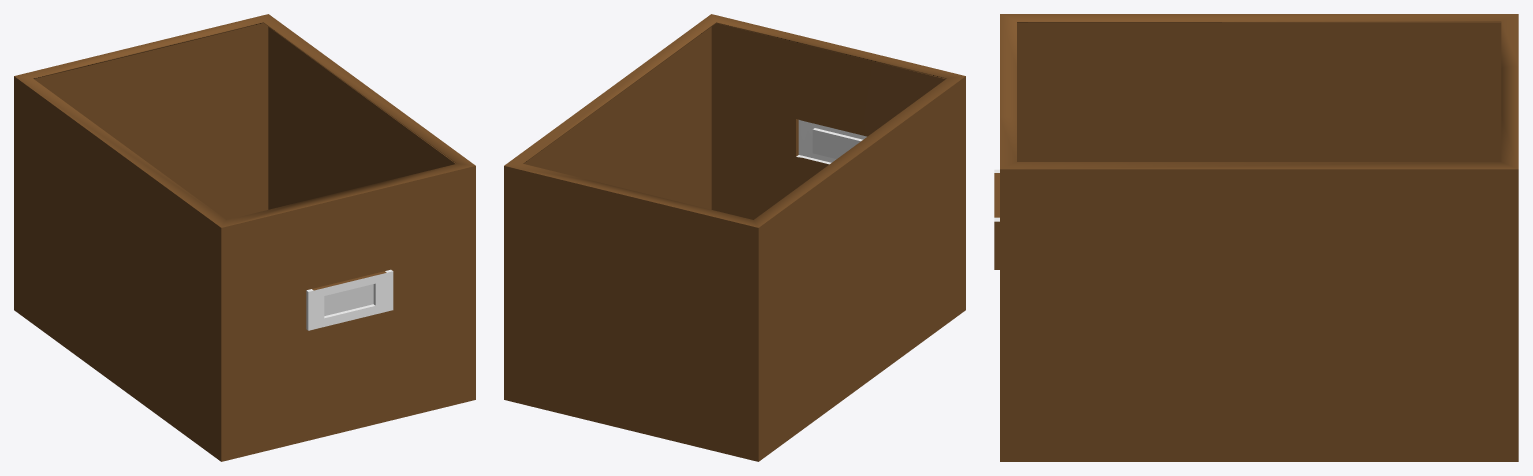
Rendered from 2waytaklob.fbx.
3 views of the same model, side by side, from view 1: azimuth 30°, elevation 25°; view 2: azimuth 150°, elevation 25°; view 3: azimuth 270°, elevation 25° (orthographic). The views are drawn at different scales.
Parts seen in each view (by area): view 1: Cube; view 2: Cube; view 3: Cube.
Boxes of the visible parts, x1,y1,x2,y2 form: Cube: [14, 14, 475, 461]; Cube: [504, 14, 965, 461]; Cube: [994, 14, 1518, 461].
Size of the model in its own units: 200 by 176 by 285.
